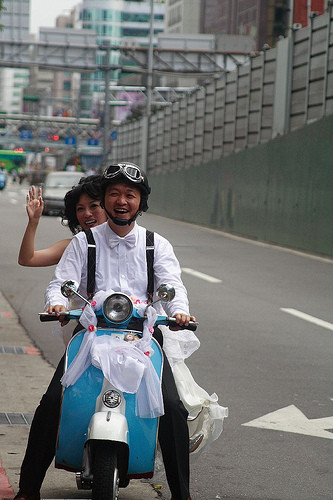helmet: (93, 162, 153, 199), (65, 177, 107, 205)
